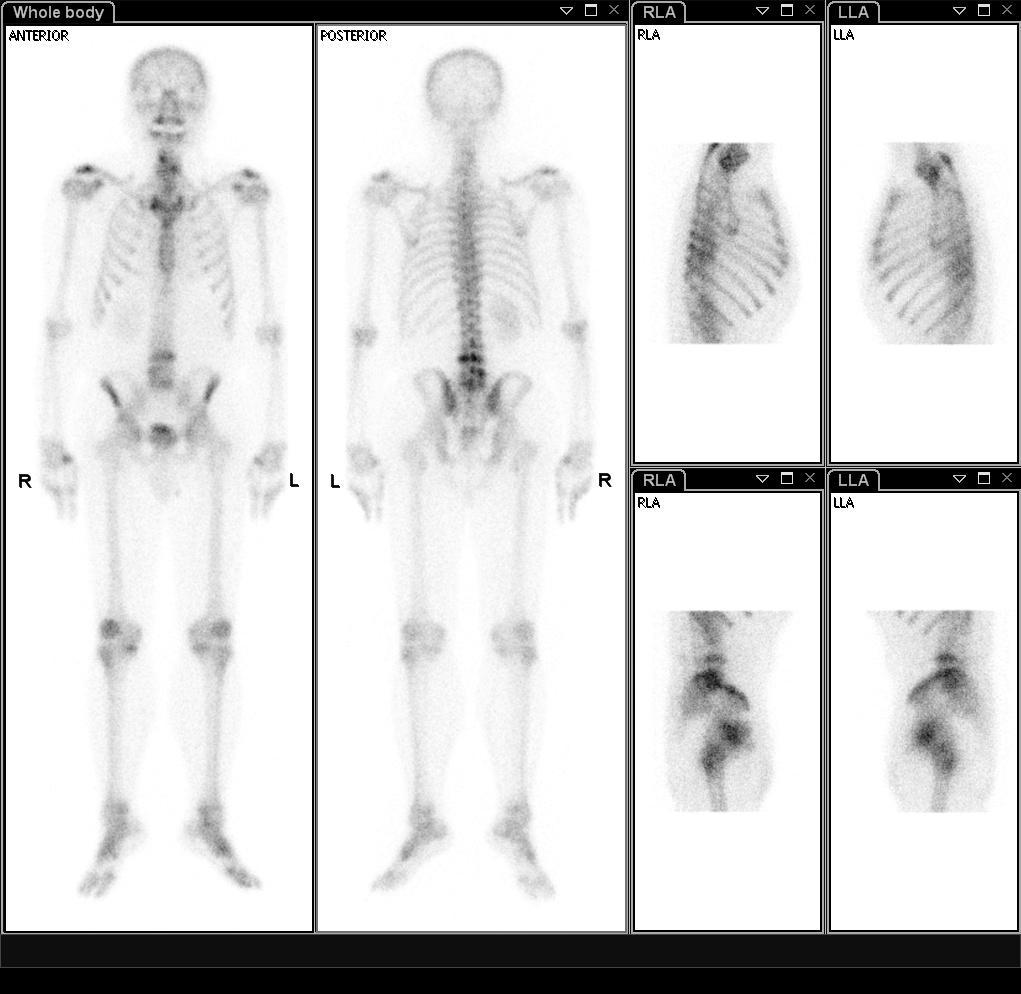person: (3, 25, 631, 933)
